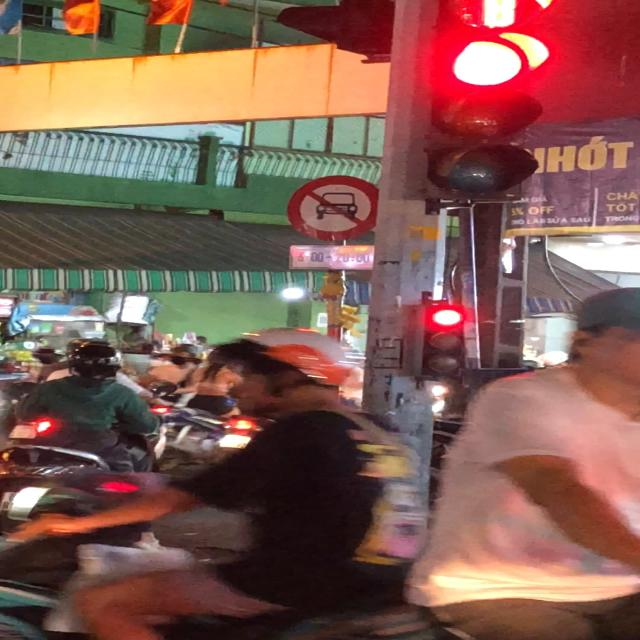Bien bao cam xe oto: (283, 172, 383, 244)
